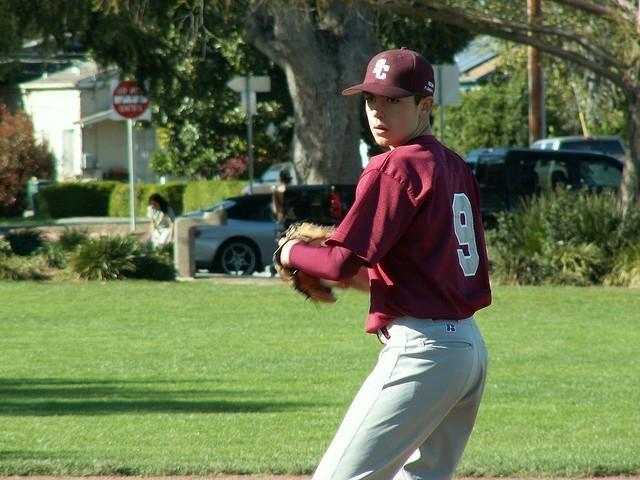car: (172, 192, 279, 276), (529, 134, 626, 156)
truck: (282, 147, 626, 230), (528, 134, 626, 164)
